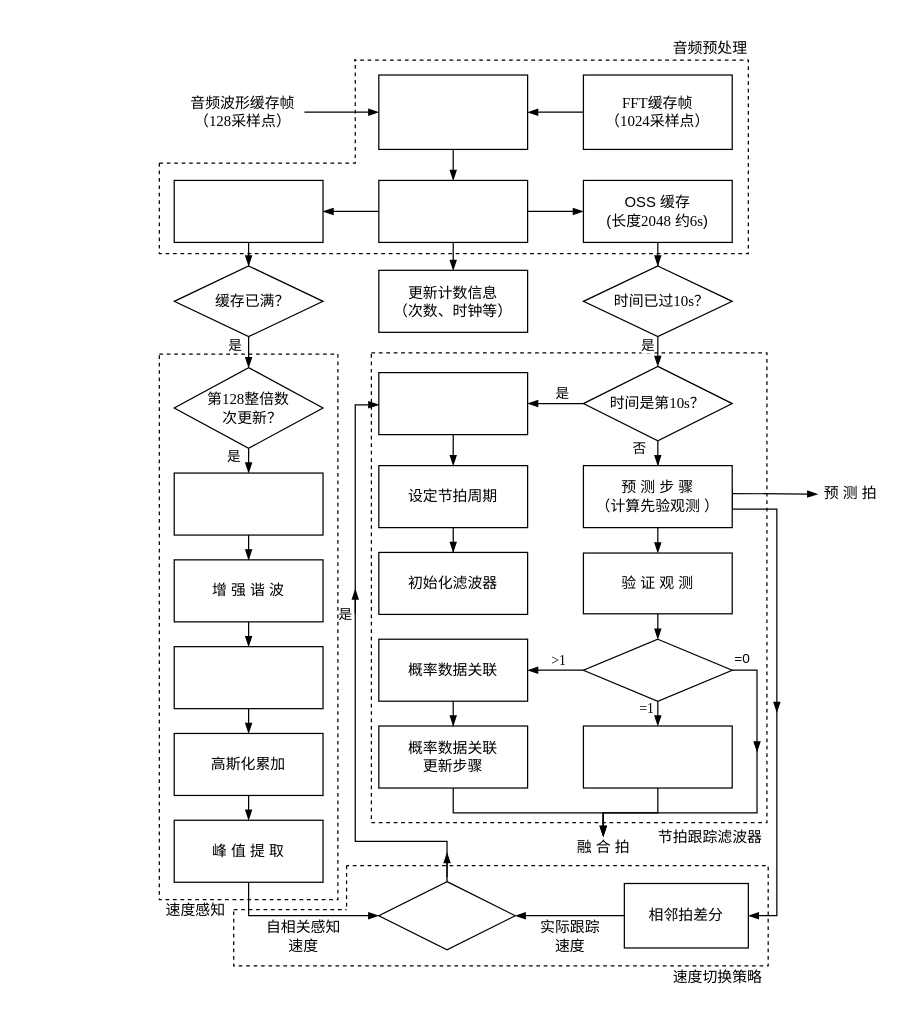
Image size: 910x1022. Some labels were removed from this diagram. The shapes that lost their labels are listed below. From the top down, each one's centre as x and y in pixels, then its label:
At (453,111): "加 hanning 窗 快速傅里叶变换 （帧宽 1024 ）".
At (248,210): "频谱通量缓存 ( 长度 2048 约 6s)".
At (453,210): "计算频谱通量 和 OSS".
At (453,403): "设定第一拍".
At (248,503): "广义自相关 （帧宽2048 ）".
At (248,677): "提取局部主导周期".
At (657,669): "有效观测数量 ？".
At (657,756): "卡尔曼更新步骤".
At (446,915): "相差 2BPM 持续 5s？".
